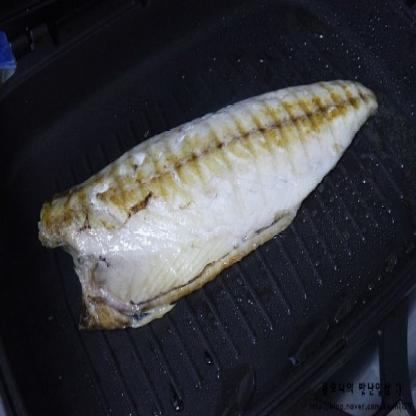Peixe: (31, 57, 386, 338)
